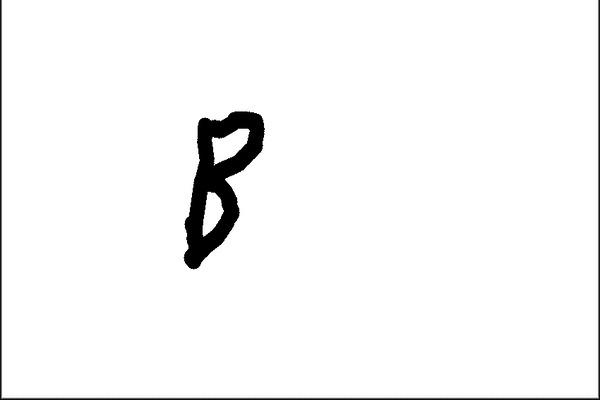B: (177, 104, 268, 271)
